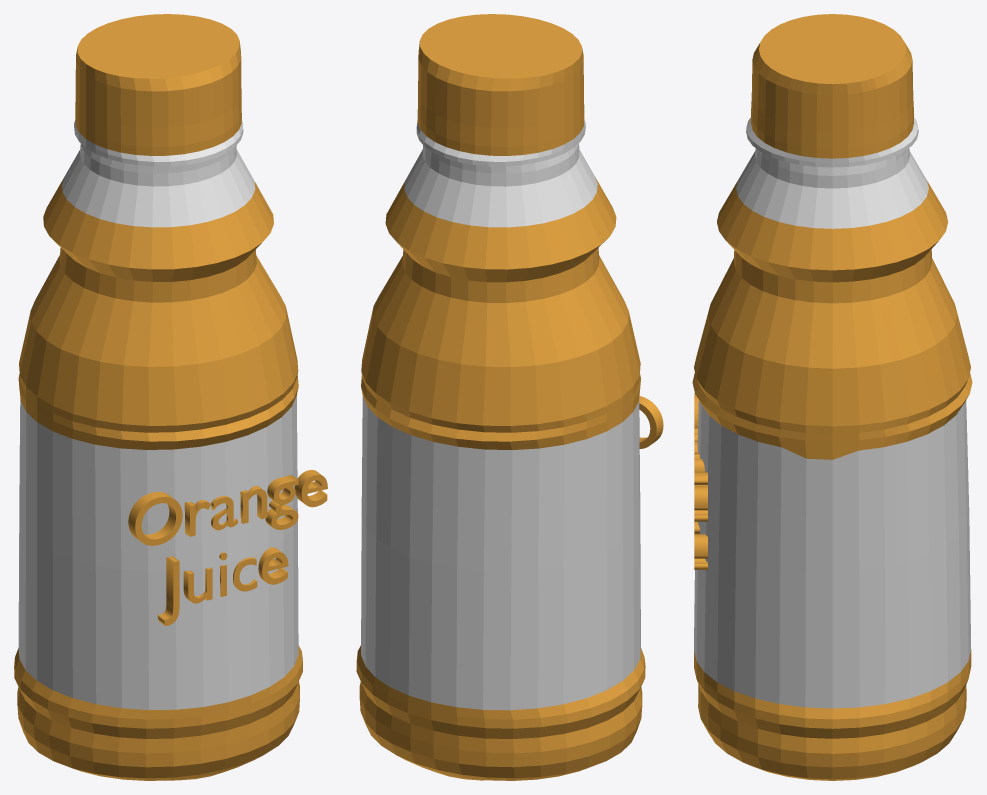
The model's file is juice.fbx.
3 views of the same model, side by side, from view 1: azimuth 30°, elevation 25°; view 2: azimuth 150°, elevation 25°; view 3: azimuth 270°, elevation 25° (orthographic).
Visible parts, largest first — view 1: Cylinder, Text; view 2: Cylinder, Text; view 3: Cylinder, Text.
Boxes of the visible parts, x1,y1,x2,y2 form: Cylinder: (14,14,302,780); Text: (128,470,327,625); Cylinder: (356,14,645,780); Text: (639,396,663,448); Cylinder: (692,14,972,780); Text: (694,393,707,569).
Bounding box in the file's own units: 118 × 306 × 113.
